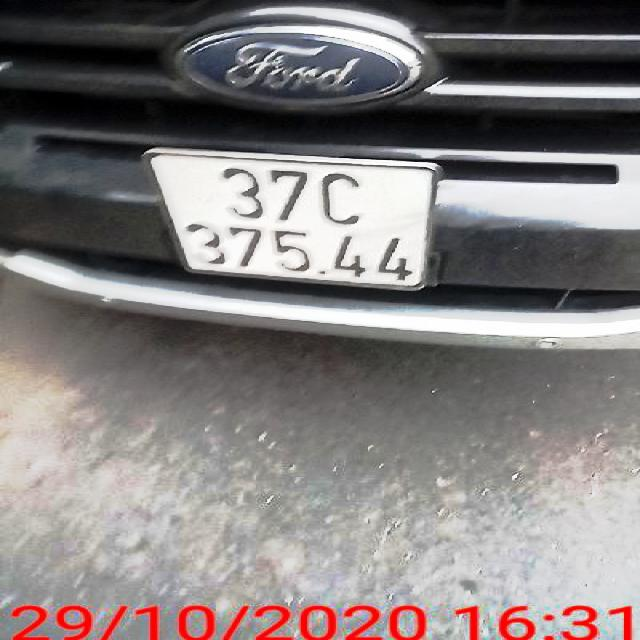license_plate: (149, 150, 443, 284)
